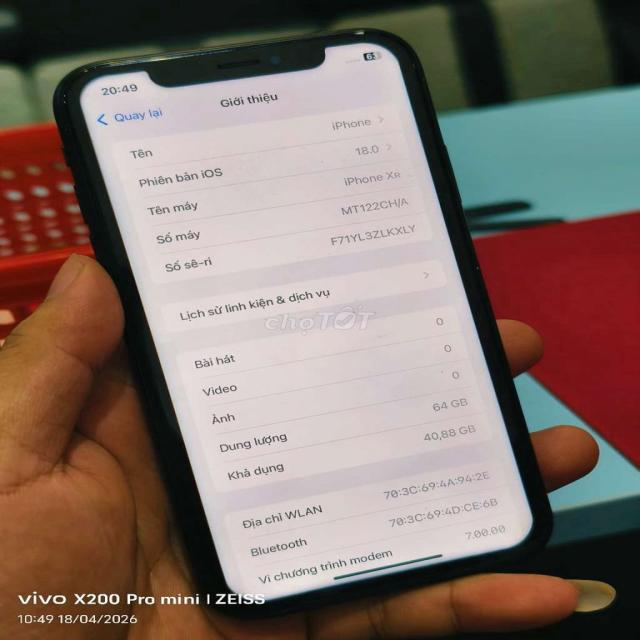gen_x_xs: (54, 29, 550, 618), (389, 497, 505, 528)
